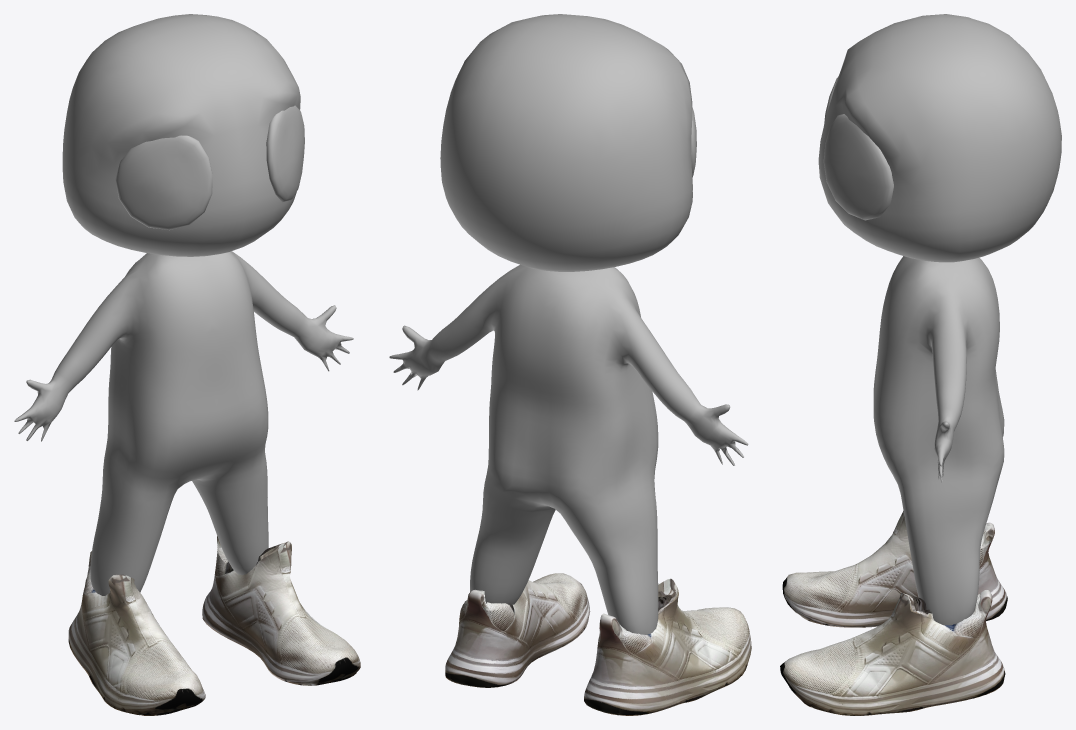
Rendered from Omino_Felice.fbx.
The picture shows the model from 3 angles, left to right: view 1: azimuth 30°, elevation 25°; view 2: azimuth 150°, elevation 25°; view 3: azimuth 270°, elevation 25°; orthographic projection. The views are drawn at different scales.
Parts seen in each view (by area): view 1: omino merge, polySurface3, polySurface2; view 2: omino merge, polySurface2, polySurface3; view 3: omino merge, polySurface3, polySurface2.
Part boxes in pixels (<box>): omino merge: <box>14,14,353,595</box>; polySurface3: <box>202,536,360,685</box>; polySurface2: <box>68,551,205,715</box>; omino merge: <box>389,14,748,634</box>; polySurface2: <box>584,578,751,715</box>; polySurface3: <box>445,573,590,687</box>; omino merge: <box>818,14,1061,625</box>; polySurface3: <box>780,590,1005,715</box>; polySurface2: <box>782,511,1007,627</box>.
Size of the model in its own units: 10.27 by 18.13 by 7.38.
